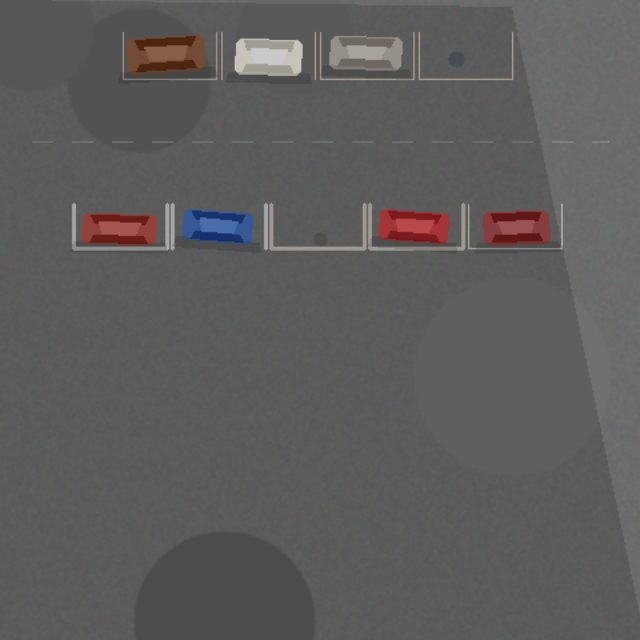space-empty: (419, 32, 512, 79), (271, 204, 364, 248)
space-occupied: (221, 32, 315, 79), (123, 32, 216, 79), (320, 32, 413, 79), (73, 204, 167, 248), (369, 204, 463, 248), (172, 204, 265, 248), (468, 204, 561, 248)
